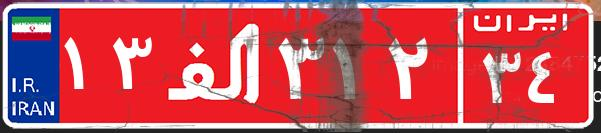1: (330, 28, 385, 110), (57, 26, 110, 107)
2: (385, 28, 445, 110)
3: (273, 28, 330, 110), (475, 38, 525, 113), (110, 28, 158, 105)
4: (525, 38, 570, 115)
الف: (158, 15, 273, 115)
